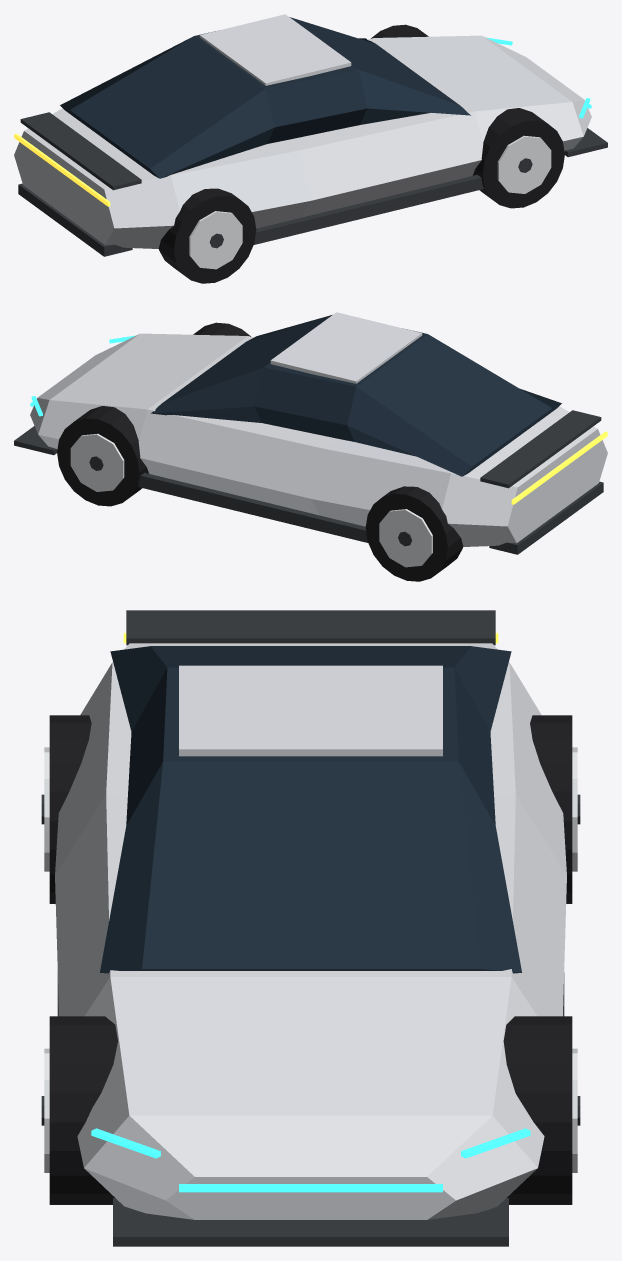
File: demo-motors-concept.glb
3 views of the same model, one above another, from view 1: azimuth 30°, elevation 25°; view 2: azimuth 150°, elevation 25°; view 3: azimuth 270°, elevation 25° (orthographic). The views are drawn at different scales.
Parts seen in each view (by area): view 1: Body, Cabin, RoofPanel, Tire.003, Tire.001, SideSkirtR, Spoiler, Rim.001, Rim.003, RearDiffuser, RearLED, FrontSplitter (+1 smaller); view 2: Body, Cabin, RoofPanel, Tire.002, Tire, SideSkirtL, Spoiler, Rim, Rim.002, RearDiffuser, RearLED, FrontSplitter (+1 smaller); view 3: Body, Cabin, RoofPanel, Spoiler, FrontSplitter, Tire, Tire.001, Tire.002, Tire.003, FrontLED.
Part boxes in pixels (box(x1,y1,x2,y2)): Body: box(14, 35, 591, 248); Cabin: box(60, 17, 470, 178); RoofPanel: box(199, 14, 351, 85); Tire.003: box(158, 188, 256, 283); Tire.001: box(472, 108, 564, 208); SideSkirtR: box(254, 174, 484, 244); Spoiler: box(20, 112, 141, 190); Rim.001: box(497, 135, 551, 193); Rim.003: box(189, 211, 242, 269); RearDiffuser: box(18, 183, 132, 256); RearLED: box(14, 133, 110, 206); FrontSplitter: box(564, 128, 607, 157); Body: box(30, 333, 607, 546); Cabin: box(151, 314, 561, 476); RoofPanel: box(270, 312, 422, 383); Tire.002: box(365, 486, 463, 581); Tire: box(57, 406, 149, 506); SideSkirtL: box(137, 472, 367, 542); Spoiler: box(480, 410, 601, 488); Rim: box(70, 433, 124, 491); Rim.002: box(379, 509, 432, 567); RearDiffuser: box(489, 481, 603, 554); RearLED: box(511, 431, 607, 504); FrontSplitter: box(14, 426, 57, 455); Body: box(55, 643, 566, 1219); Cabin: box(100, 646, 521, 973); RoofPanel: box(179, 665, 442, 756); Spoiler: box(126, 610, 495, 645); FrontSplitter: box(113, 1198, 508, 1246); Tire: box(503, 1016, 572, 1204); Tire.001: box(49, 1016, 117, 1204); Tire.002: box(530, 715, 572, 903); Tire.003: box(49, 715, 91, 903); FrontLED: box(179, 1184, 442, 1192).
Size of the model in its own units: 4.35 by 1.3 by 2.04.
